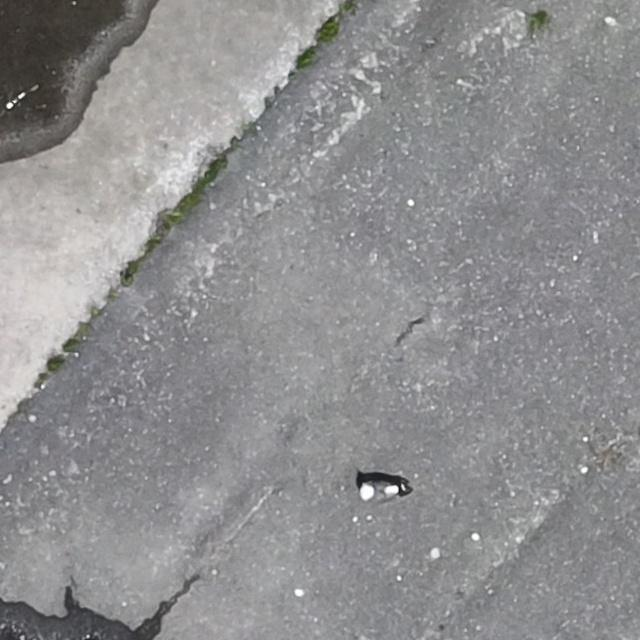umineko: (362, 481, 397, 499)
